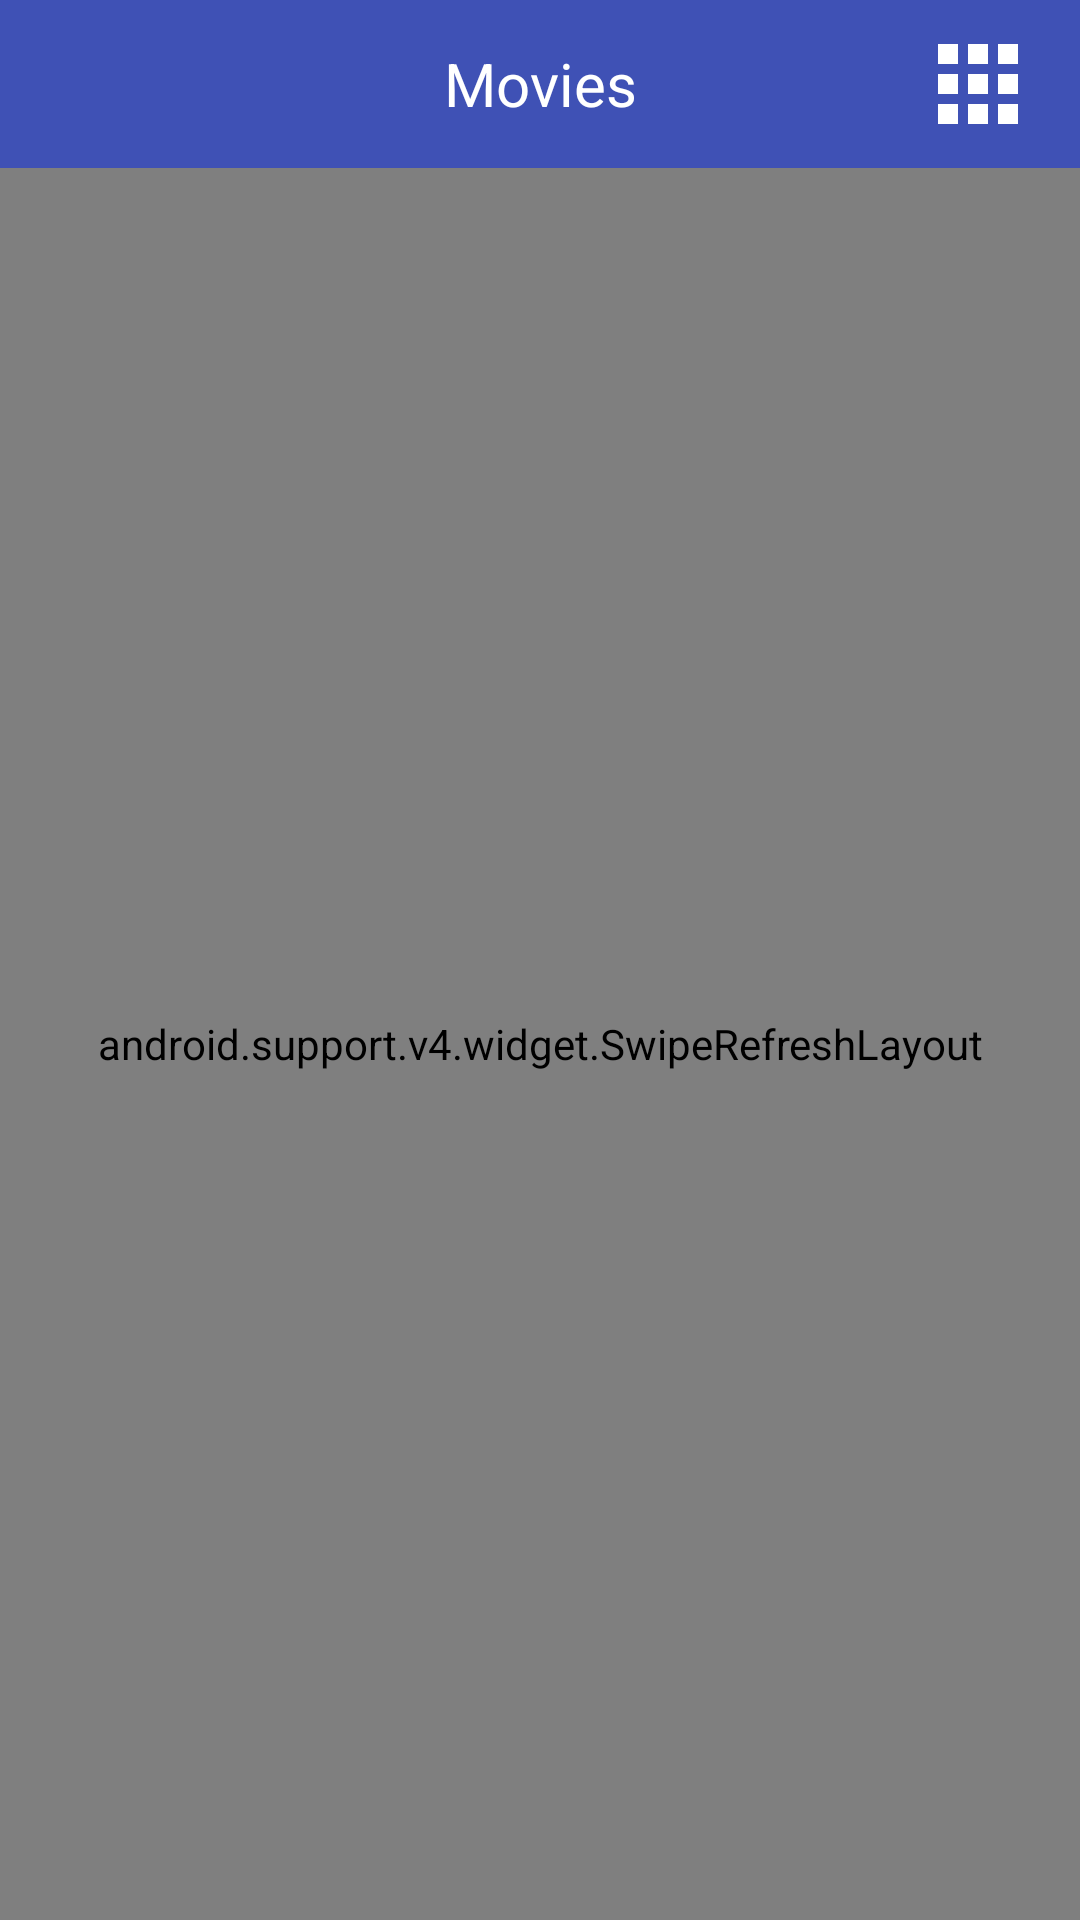

Icons on this 1080*1920 Android screen, each with the point to tap as (x=x, y=y):
apps: (x=978, y=84)
